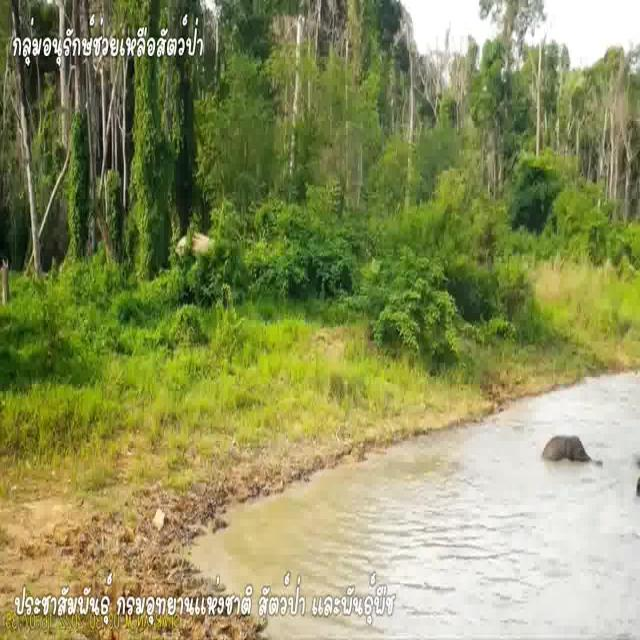Elephant: (538, 428, 593, 470)
